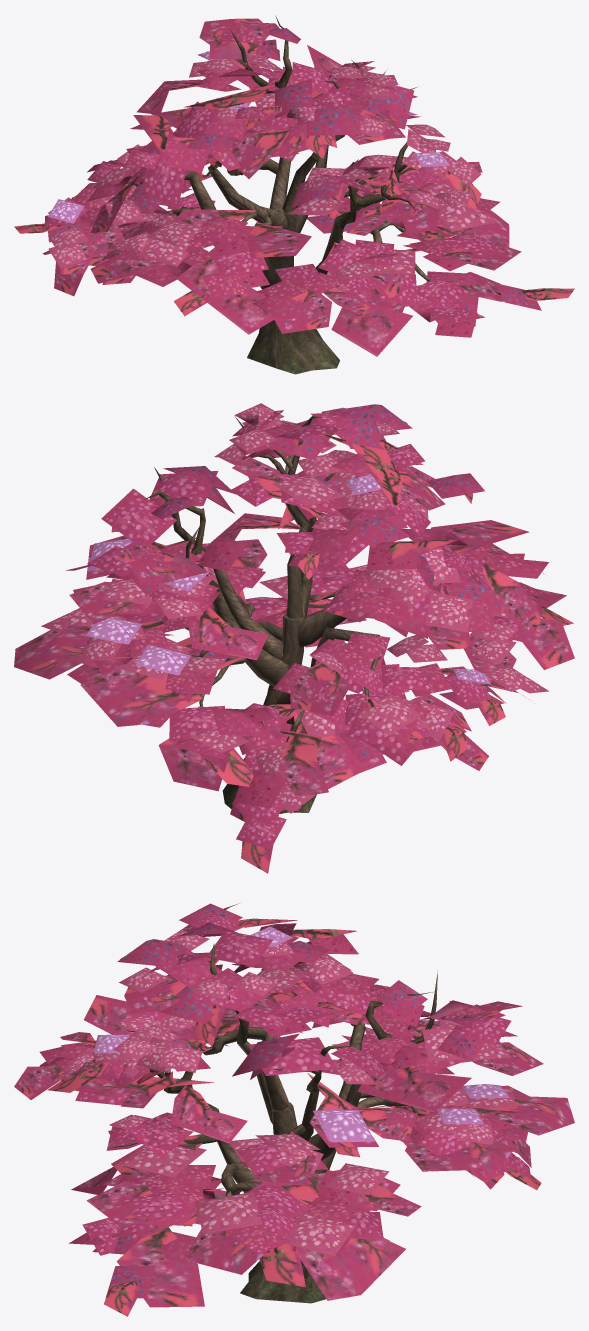
Rendered from cj_luoyang_shu03_53_36_6196out.fbx.
3 views of the same model, one above another, from view 1: azimuth 30°, elevation 25°; view 2: azimuth 150°, elevation 25°; view 3: azimuth 270°, elevation 25° (orthographic). The views are drawn at different scales.
Visible parts, largest first — view 1: 0000_cj_luoyang_shu03, 0001_cj_luoyang_shu03; view 2: 0000_cj_luoyang_shu03, 0001_cj_luoyang_shu03; view 3: 0000_cj_luoyang_shu03, 0001_cj_luoyang_shu03.
Boxes of the visible parts, x1,y1,x2,y2 form: 0000_cj_luoyang_shu03: [14, 18, 574, 356]; 0001_cj_luoyang_shu03: [134, 15, 462, 374]; 0000_cj_luoyang_shu03: [14, 403, 574, 873]; 0001_cj_luoyang_shu03: [144, 415, 385, 813]; 0000_cj_luoyang_shu03: [14, 903, 574, 1316]; 0001_cj_luoyang_shu03: [112, 943, 473, 1303].
Size of the model in its own units: 15.88 by 10.4 by 15.52.
